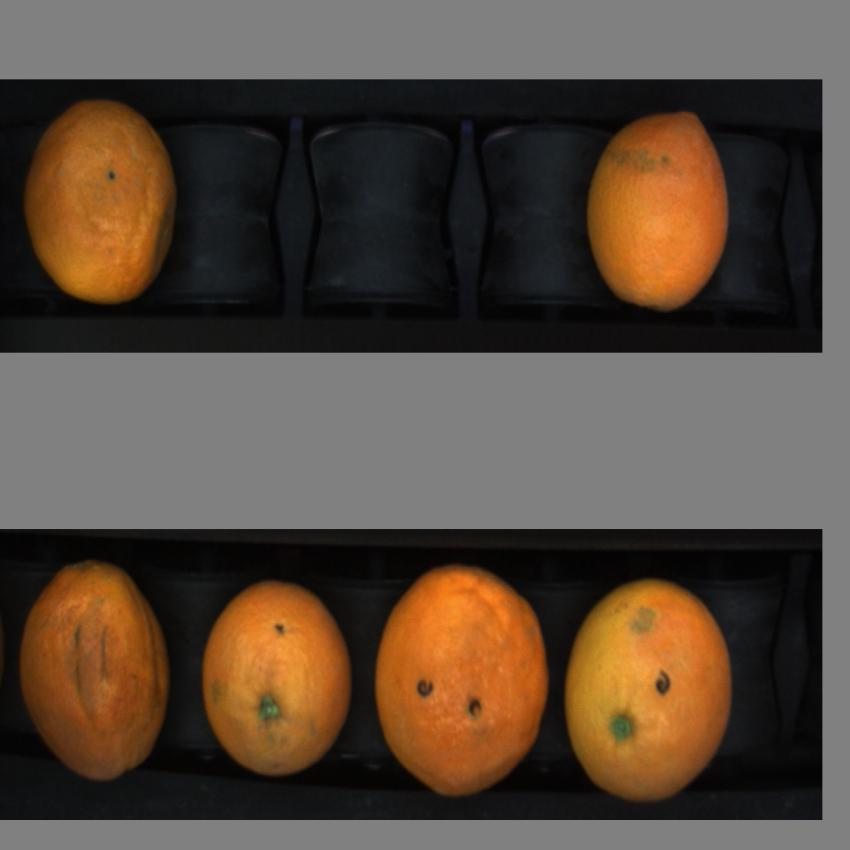Buen estado: (562, 564, 742, 810), (370, 559, 554, 799), (197, 577, 358, 783), (583, 106, 733, 320)
Mal estado: (17, 555, 174, 795), (23, 94, 185, 315)
